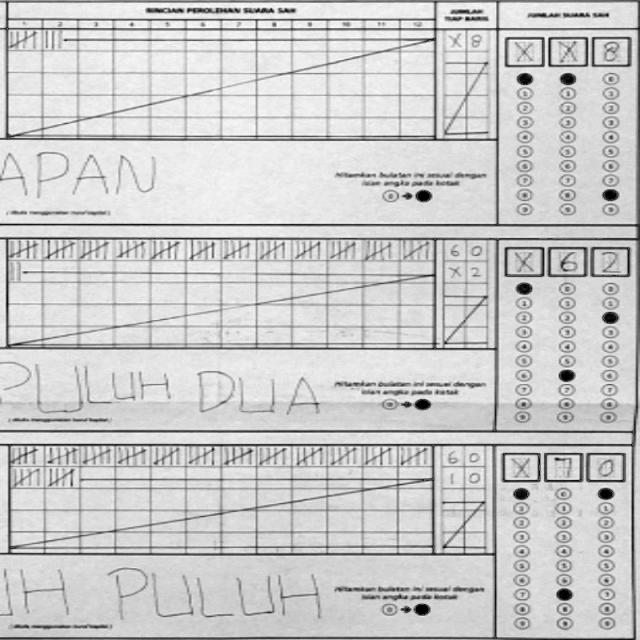Suara: (498, 237, 633, 278), (499, 30, 634, 68), (497, 448, 626, 485)
